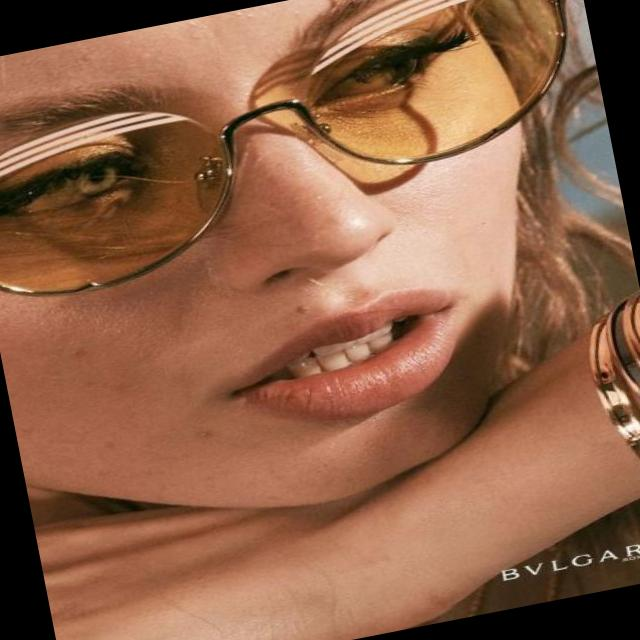glasses: (0, 0, 617, 311)
